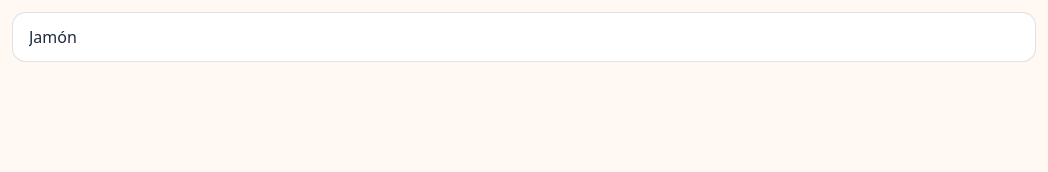
Scenario: SearchableSelect › shows the chosen option again when the user leaves without choosing
Replace the text in the dropdown named "Ingrediente 1" with "pan" at (524,37), box [12,12,1036,62]
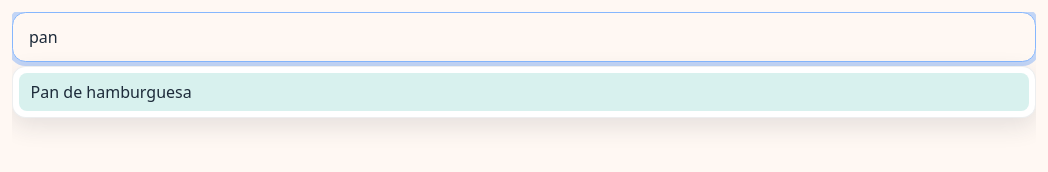
Leave the dropdown named "Ingrediente 1", box [12,12,1036,62]
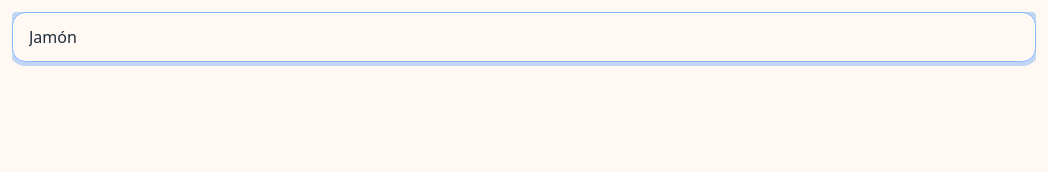
Now the dropdown named "Ingrediente 1" holds "Jamón", box [12,12,1036,62]
Now the list is gone
